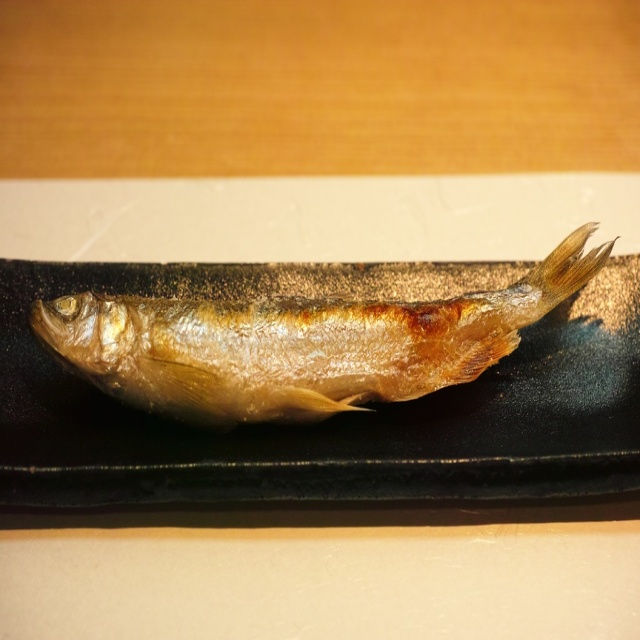Fish: (26, 221, 622, 425)
